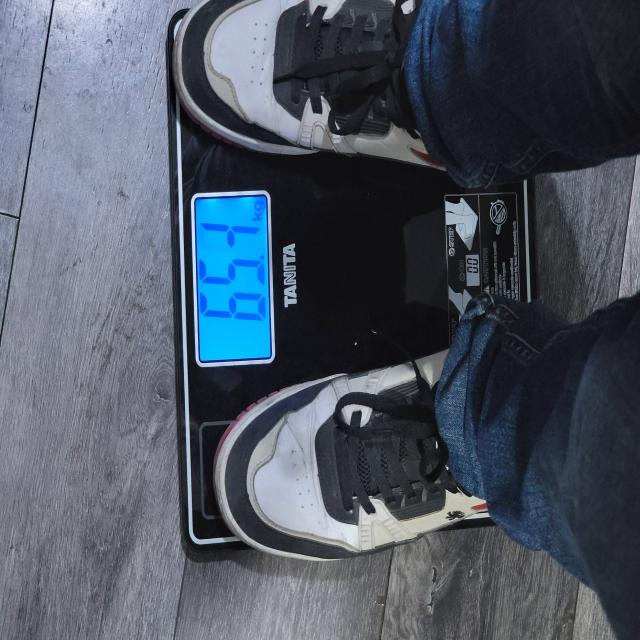ws: (189, 190, 277, 370)
